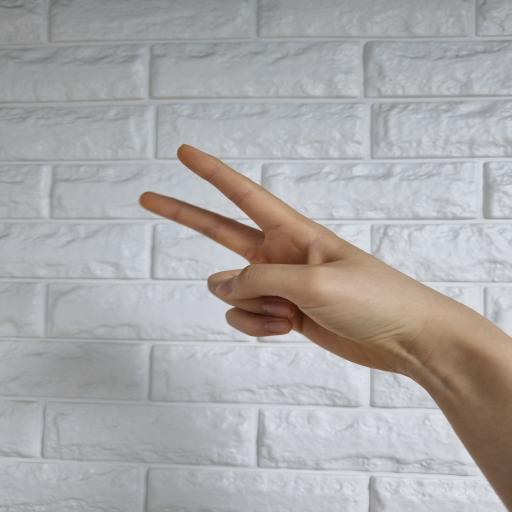Scissors: (138, 142, 460, 382)
